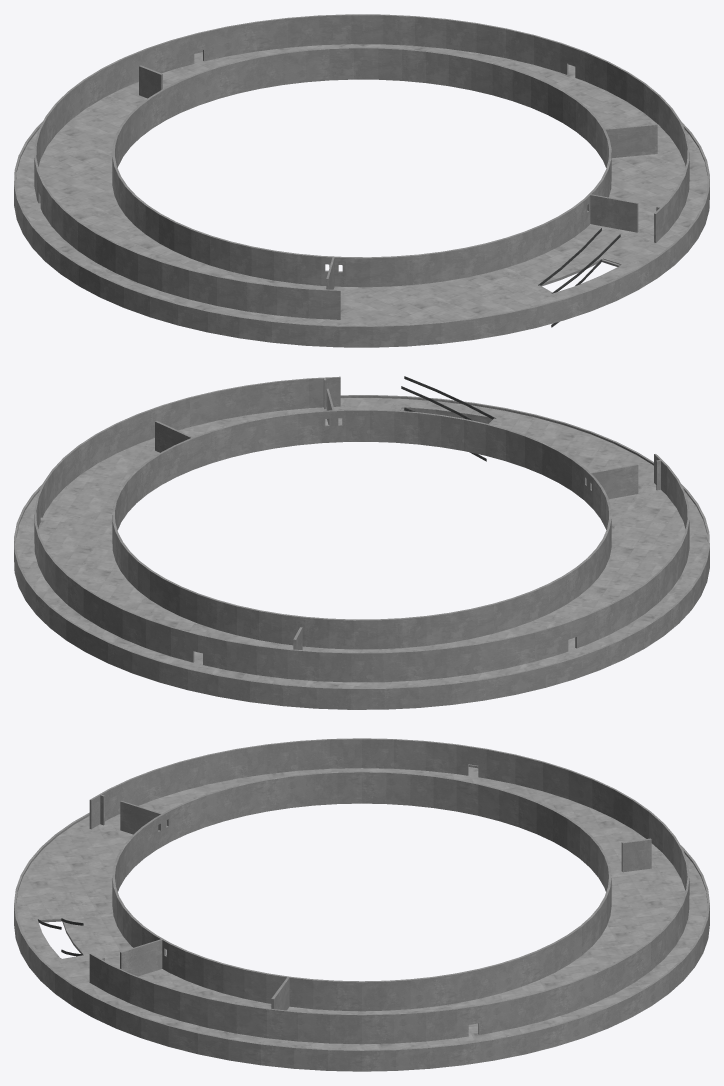
The model's file is Level_1.glb.
3 renders of one model, top to bottom at view 1: azimuth 30°, elevation 25°; view 2: azimuth 150°, elevation 25°; view 3: azimuth 270°, elevation 25°, orthographic.
Visible parts, largest first — view 1: Level 1; view 2: Level 1; view 3: Level 1.
Boxes of the visible parts, x1,y1,x2,y2 form: Level 1: (14,14,709,347); Level 1: (14,376,709,709); Level 1: (14,738,709,1071).
Bounding box in the file's own units: 163 × 16.86 × 163.
5 materials, 4 textured.
